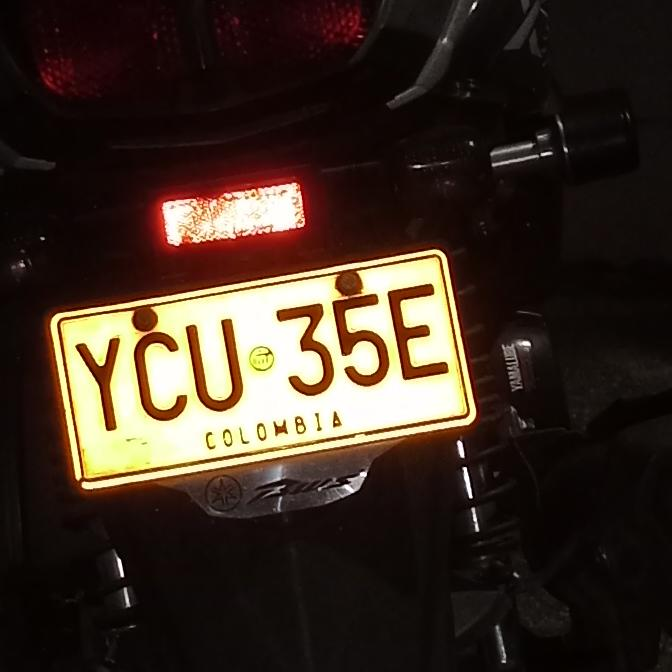plates: (35, 246, 479, 493)
